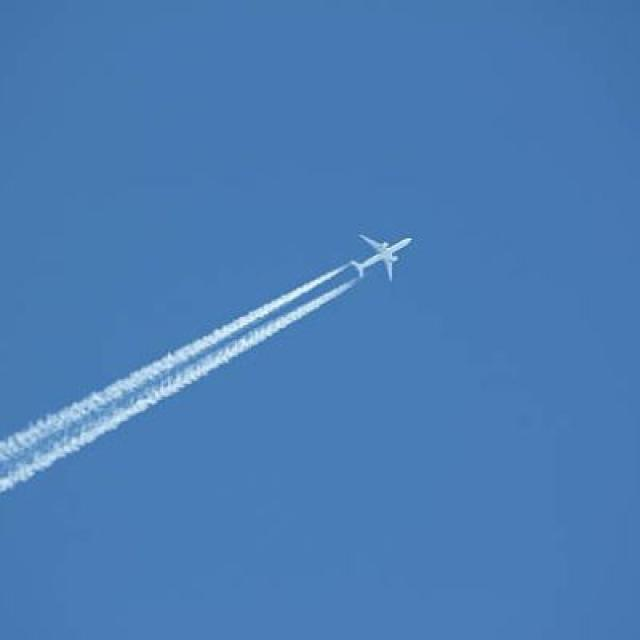Ct: (1, 226, 423, 505)
